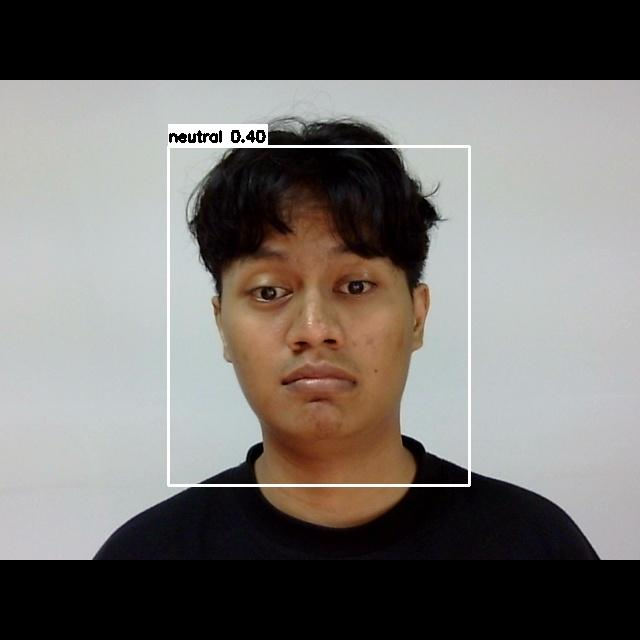Fear: (211, 217, 426, 424)
